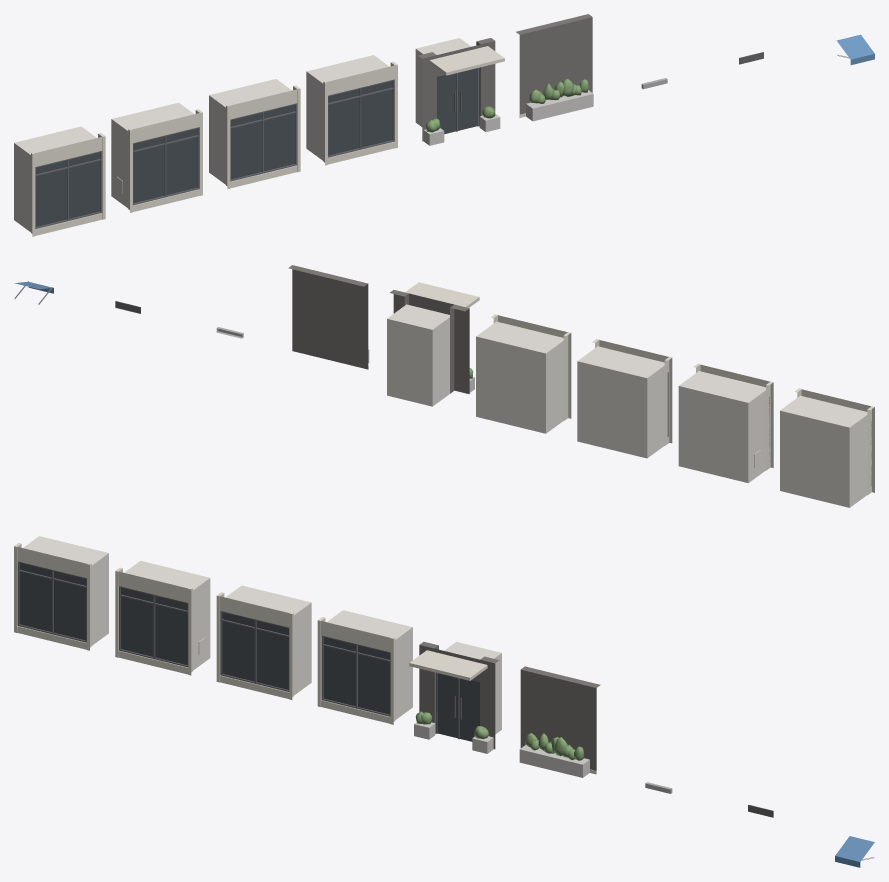
Rendered from terreo-lojas-orla.glb.
3 renders of one model, top to bottom at view 1: azimuth 30°, elevation 25°; view 2: azimuth 150°, elevation 25°; view 3: azimuth 330°, elevation 25°, orthographic. The views are drawn at different scales.
Parts seen in each view (by area): view 1: dn_loja_vao_0, dn_loja_vao_3, dn_loja_vao_2, dn_loja_vao_1, dn_loja_portaria, dn_loja_parede, dn_loja_toldo; view 2: dn_loja_vao_3, dn_loja_vao_2, dn_loja_vao_1, dn_loja_vao_0, dn_loja_portaria, dn_loja_parede; view 3: dn_loja_vao_2, dn_loja_vao_1, dn_loja_vao_3, dn_loja_vao_0, dn_loja_portaria, dn_loja_parede, dn_loja_toldo.
Part boxes in pixels (x1=…): dn_loja_vao_0: x1=14, y1=126, x2=105, y2=236; dn_loja_vao_3: x1=306, y1=55, x2=397, y2=165; dn_loja_vao_2: x1=209, y1=79, x2=300, y2=189; dn_loja_vao_1: x1=111, y1=102, x2=202, y2=212; dn_loja_portaria: x1=415, y1=38, x2=504, y2=145; dn_loja_parede: x1=516, y1=14, x2=593, y2=121; dn_loja_toldo: x1=836, y1=34, x2=874, y2=64; dn_loja_vao_3: x1=476, y1=314, x2=571, y2=433; dn_loja_vao_2: x1=577, y1=339, x2=672, y2=458; dn_loja_vao_1: x1=678, y1=363, x2=773, y2=483; dn_loja_vao_0: x1=780, y1=388, x2=874, y2=507; dn_loja_portaria: x1=387, y1=282, x2=479, y2=406; dn_loja_parede: x1=288, y1=265, x2=369, y2=369; dn_loja_vao_2: x1=216, y1=585, x2=311, y2=699; dn_loja_vao_1: x1=115, y1=560, x2=210, y2=675; dn_loja_vao_3: x1=317, y1=610, x2=412, y2=724; dn_loja_vao_0: x1=14, y1=536, x2=108, y2=650; dn_loja_portaria: x1=409, y1=641, x2=501, y2=753; dn_loja_parede: x1=519, y1=666, x2=600, y2=777; dn_loja_toldo: x1=835, y1=836, x2=874, y2=867.
Size of the model in its own units: 34 by 3.85 by 2.7.
